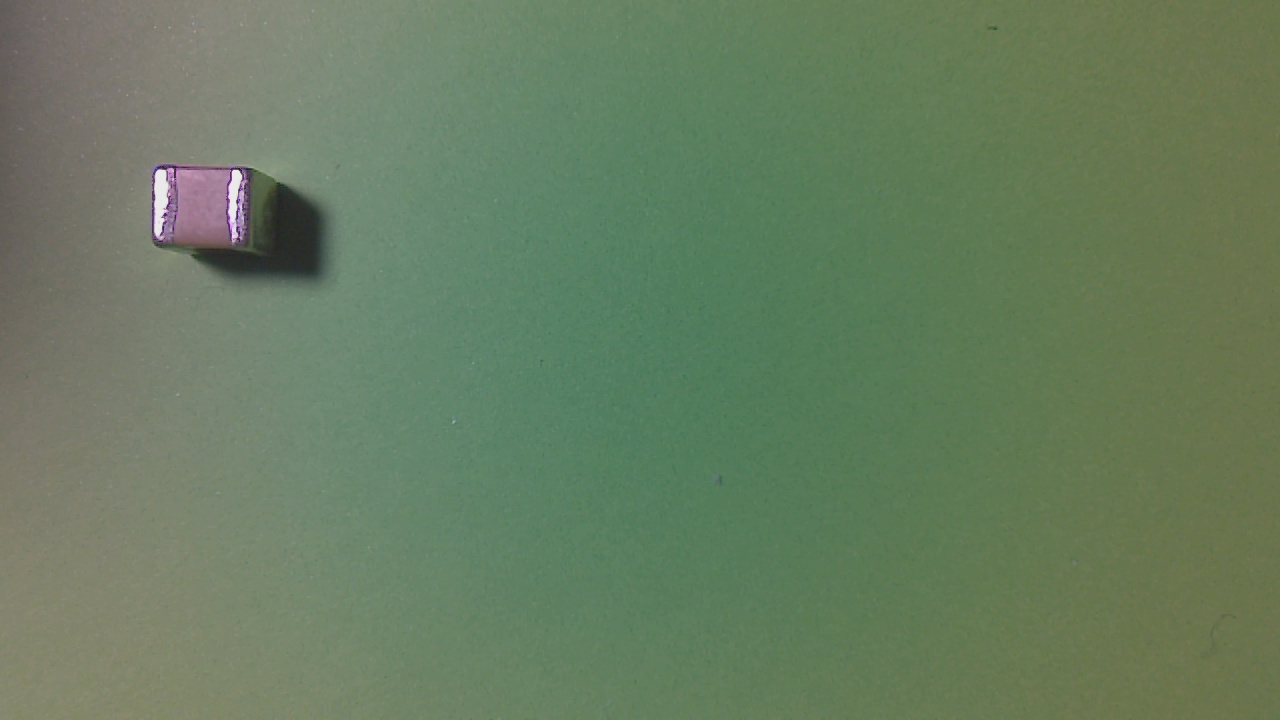Condensator: (153, 164, 260, 259)
